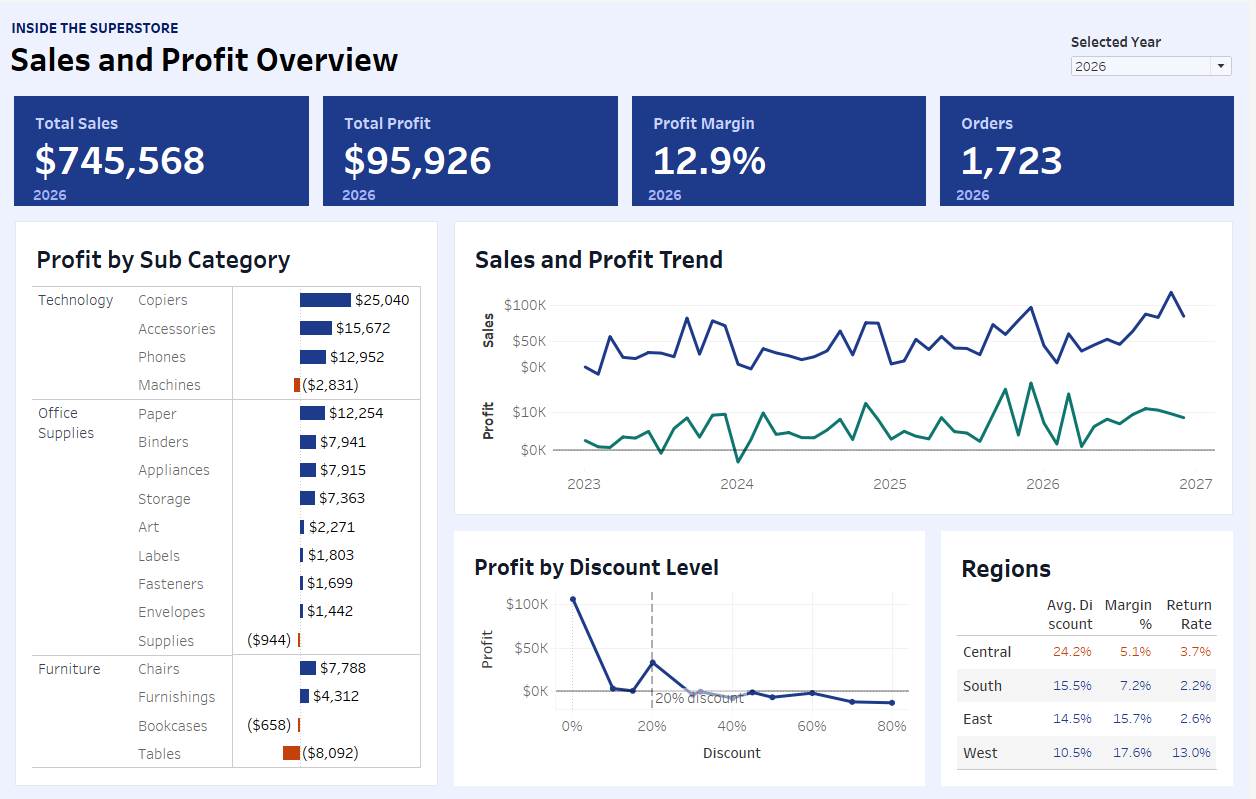

This screenshot's page, from the dashboard's own definition file:
{"tool":"tableau","page":{"name":"Dashboard 1","canvas":[1250,800],"ordinal":0},"visuals":[{"type":"text","box":[9.4,0,535.4,50]},{"type":"parameter","param":"[Parameters].[Parameter 1]","box":[1068.8,30,166.7,47]},{"type":"text","box":[8.3,32,535.4,48]},{"type":"worksheet","title":"Total Sales","mark":"Automatic","box":[8,87,309,124]},{"type":"worksheet","title":"Total Profit","mark":"Automatic","box":[317,87,309,124]},{"type":"worksheet","title":"Profit Margin","mark":"Automatic","box":[626,87,308,124]},{"type":"worksheet","title":"Orders","mark":"Automatic","box":[934,87,308,124]},{"type":"worksheet","title":"Profit by Sub Category","mark":"Automatic","rows":["category","sub_category"],"cols":["profit"],"box":[8,211,438.8,581]},{"type":"worksheet","title":"Sales and Profit Trend","mark":"Automatic","rows":["sales","profit"],"cols":["order_date"],"box":[446.8,211,795.2,310]},{"type":"worksheet","title":"Profit by Discount Level","mark":"Automatic","rows":["profit"],"cols":["discount"],"box":[446.8,521,487,271]},{"type":"worksheet","title":"Regions","mark":"Automatic","rows":["region"],"box":[933.8,521,308.2,271]}]}

Visuals, with their boxes in screenshot pixels (x1, y1, x2, y2), scaled from the page's 1250x800 canvas onto the 1256x799 screenshot:
text: <box>9,0,547,50</box>
parameter: <box>1074,30,1241,77</box>
text: <box>8,32,546,80</box>
"Total Sales" worksheet: <box>8,87,319,211</box>
"Total Profit" worksheet: <box>319,87,629,211</box>
"Profit Margin" worksheet: <box>629,87,938,211</box>
"Orders" worksheet: <box>938,87,1248,211</box>
"Profit by Sub Category" worksheet: <box>8,211,449,791</box>
"Sales and Profit Trend" worksheet: <box>449,211,1248,520</box>
"Profit by Discount Level" worksheet: <box>449,520,938,791</box>
"Regions" worksheet: <box>938,520,1248,791</box>
